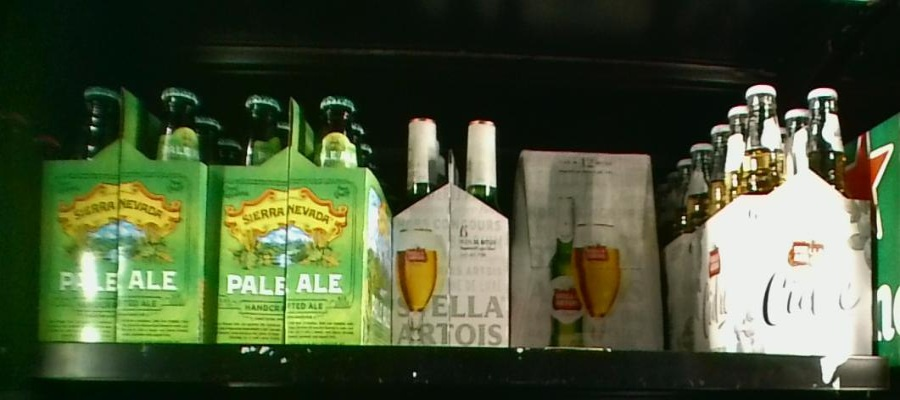bottle: (208, 83, 391, 345), (43, 80, 205, 343), (741, 82, 874, 359), (509, 149, 662, 346), (397, 112, 506, 350)
